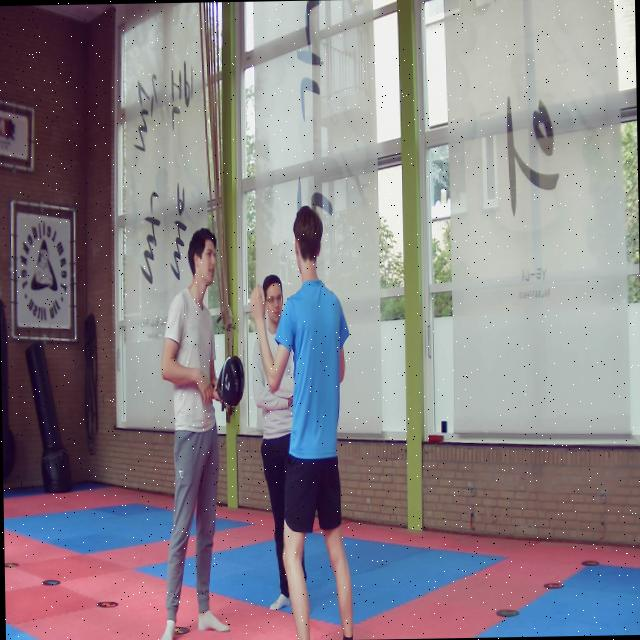paddle: (211, 355, 244, 406)
